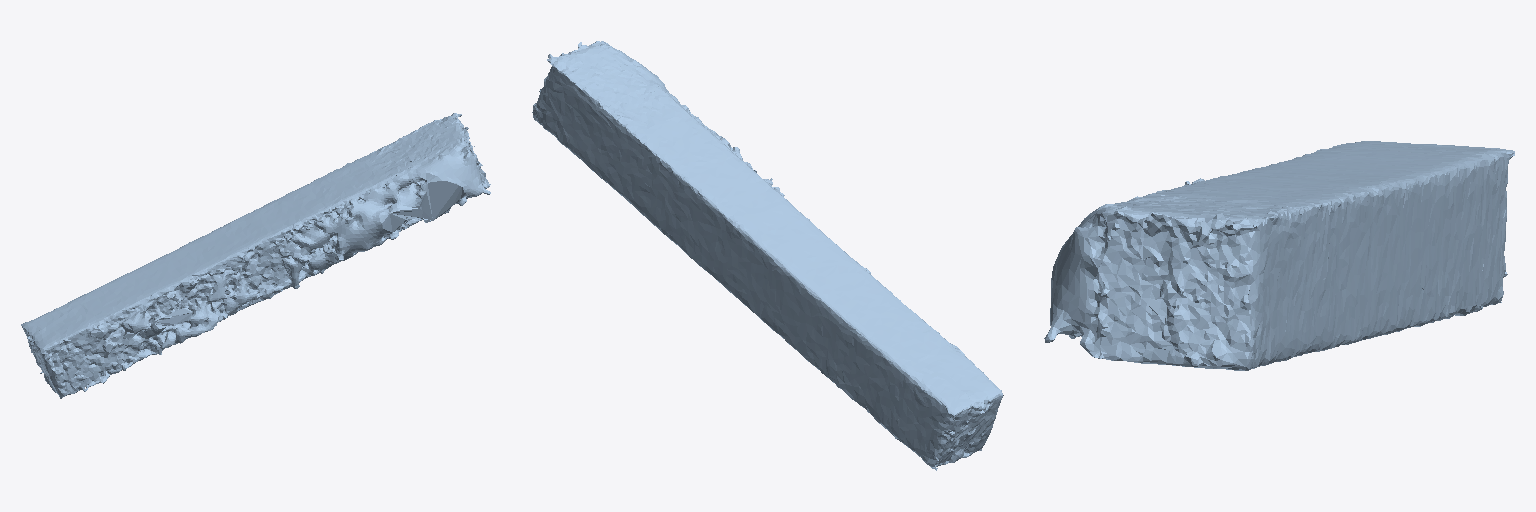
The robot description file, URDF, robot "boxlong.urdf":
<?xml version="1.0" ?>
<robot name="boxlong.urdf">
  <dynamics damping="0.5" friction="0.9"/>
  <link name="baseLink">
    <contact>
      <lateral_friction value="0.9"/>
      <rolling_friction value="0.5"/>
      <stiffness value="30000"/>
      <damping value="1000"/>
    </contact>
    <visual>
      <origin rpy="0 0 0" xyz="0 0 0"/>
      <geometry>
        <mesh filename="objects/boxlong/boxlong.obj" scale="1.0 1.0 1.0"/>
      </geometry>
       <material name="mat">
        <color rgba="0.7 0.8 0.9 1"/>
      </material>
    </visual>
    <collision>
      <origin rpy="0 0 0" xyz="0 0 0"/>
      <geometry>
         <mesh filename="objects/boxlong/boxlong.obj" scale="1.0 1.0 1.0"/>
      </geometry>
    </collision>
  </link>
</robot>

--- Render facts (derived) ---
Views: 3 orthographic renders of the robot side by side, from view 1: azimuth 30°, elevation 25°; view 2: azimuth 150°, elevation 25°; view 3: azimuth 270°, elevation 25°.
Robot: boxlong.urdf — 1 links, 0 joints (none); root link baseLink; default pose: every joint at zero.
Visible links, largest first — view 1: baseLink; view 2: baseLink; view 3: baseLink.
Boxes of the visible links, left/top/right/bottom form: baseLink: left=21, top=113, right=490, bottom=398; baseLink: left=532, top=41, right=1003, bottom=470; baseLink: left=1044, top=141, right=1514, bottom=370.
Size in the robot's own frame: 0.7799 by 0.3124 by 0.3905 metres.
1 mesh visuals loaded from 1 distinct referenced files (1 OBJ).
